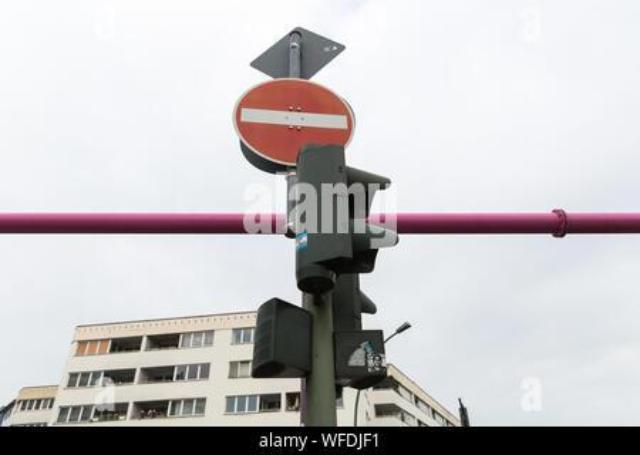B2: (230, 75, 356, 173)
